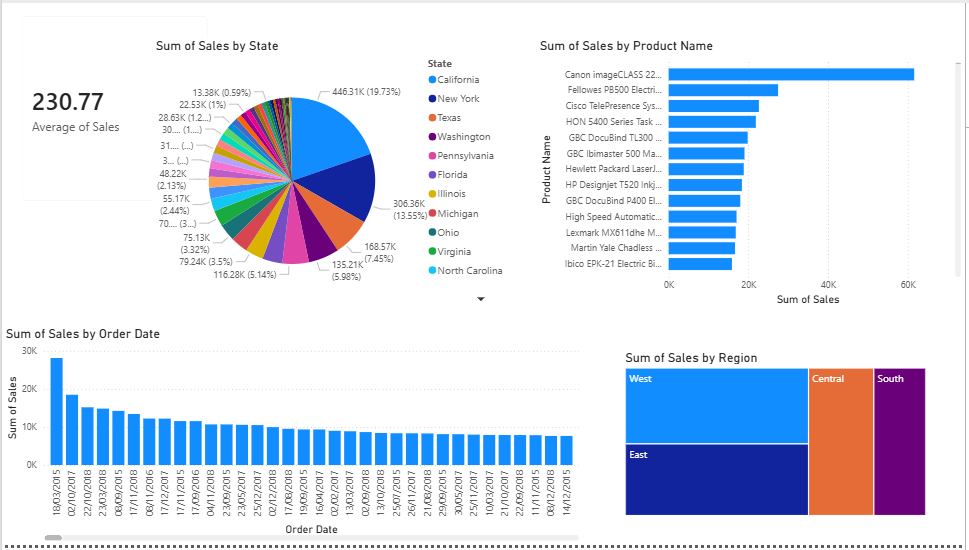

The dashboard page shown, as its layout file describes it:
{"tool":"powerbi","page":{"name":"Page 1","canvas":[1280,720],"ordinal":0},"visuals":[{"type":"cardVisual","fields":{"Data":["Avg(train 1.Sales)"]},"box":[10,0,280,280],"z":0},{"type":"clusteredColumnChart","fields":{"Y":["Sum(train 1.Sales)"],"Category":["train 1.Order Date"]},"box":[0,428.7,771.6,291.1],"z":1},{"type":"barChart","fields":{"Y":["Sum(train 1.Sales)"],"Category":["train 1.Product Name"]},"box":[709.8,46.1,569.9,360],"z":2},{"type":"treemap","fields":{"Values":["Sum(train 1.Sales)"],"Group":["train 1.Region"]},"box":[823.4,460.6,408.7,225.3],"z":3},{"type":"pieChart","fields":{"Category":["train 1.State"],"Y":["Sum(train 1.Sales)"]},"box":[199.4,45.9,510.4,360.9],"z":4}]}

Visuals, with their boxes in screenshot pixels (x1, y1, x2, y2), scaled from the page's 1280x720 canvas onto the 969x550 screenshot:
cardVisual - Avg(train 1.Sales): (x1=8, y1=0, x2=220, y2=214)
clusteredColumnChart - Sum(train 1.Sales) x train 1.Order Date: (x1=0, y1=327, x2=584, y2=549)
barChart - Sum(train 1.Sales) x train 1.Product Name: (x1=537, y1=35, x2=968, y2=310)
treemap - Sum(train 1.Sales) x train 1.Region: (x1=623, y1=352, x2=933, y2=524)
pieChart - train 1.State x Sum(train 1.Sales): (x1=151, y1=35, x2=537, y2=311)
